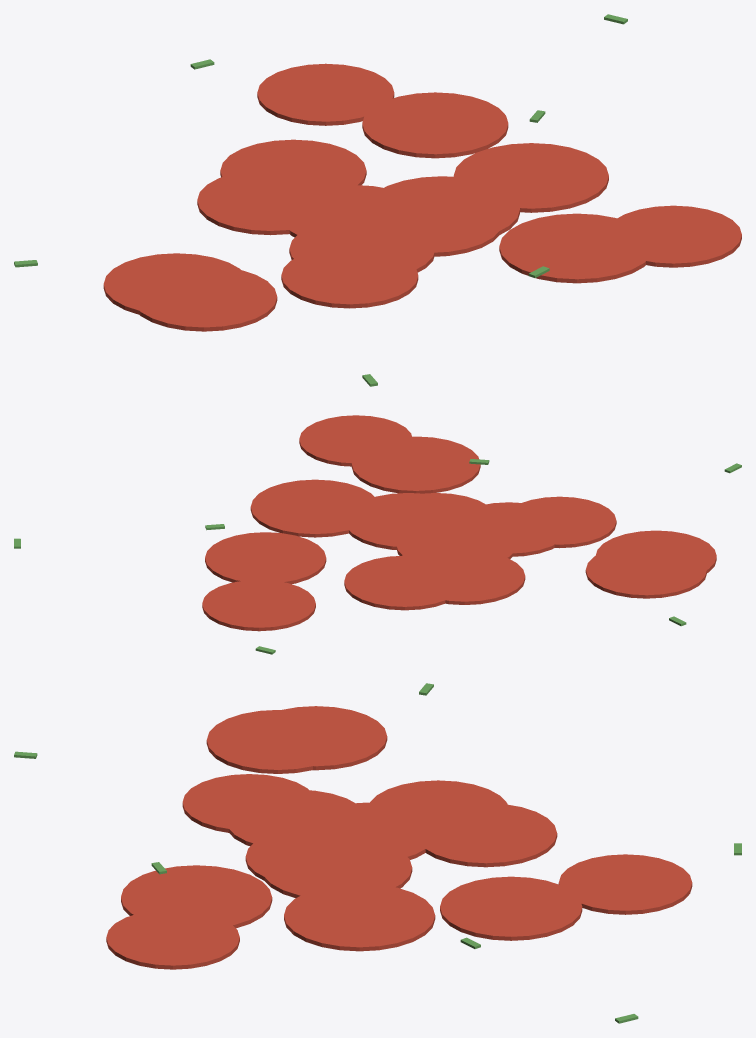
Rendered from toppings.glb.
The picture shows the model from 3 angles, top to bottom: view 1: azimuth 30°, elevation 25°; view 2: azimuth 150°, elevation 25°; view 3: azimuth 270°, elevation 25°; orthographic projection. The views are drawn at different scales.
Visible parts, largest first — view 1: Pepperoni09, Pepperoni12, Pepperoni04, Pepperoni00, Pepperoni08, Pepperoni07, Pepperoni03, Pepperoni01, Pepperoni02, Pepperoni11, Pepperoni06, Pepperoni13 (+2 smaller); view 2: Pepperoni09, Pepperoni00, Pepperoni01, Pepperoni12, Pepperoni10, Pepperoni07, Pepperoni02, Pepperoni04, Pepperoni11, Pepperoni06, Pepperoni05, Pepperoni08 (+3 smaller); view 3: Pepperoni00, Pepperoni09, Pepperoni12, Pepperoni08, Pepperoni01, Pepperoni14, Pepperoni07, Pepperoni11, Pepperoni02, Pepperoni06, Pepperoni03, Pepperoni10 (+3 smaller).
Boxes of the visible parts, x1,y1,x2,y2 form: Pepperoni09: [499, 213, 654, 283]; Pepperoni12: [362, 92, 508, 158]; Pepperoni04: [365, 176, 519, 241]; Pepperoni00: [453, 143, 608, 212]; Pepperoni08: [103, 253, 249, 314]; Pepperoni07: [257, 63, 394, 125]; Pepperoni03: [289, 220, 435, 279]; Pepperoni01: [220, 139, 366, 197]; Pepperoni02: [281, 246, 418, 308]; Pepperoni11: [605, 205, 741, 267]; Pepperoni06: [197, 172, 341, 235]; Pepperoni13: [281, 185, 403, 246]; Pepperoni09: [351, 436, 480, 493]; Pepperoni00: [250, 479, 378, 537]; Pepperoni01: [344, 555, 465, 610]; Pepperoni12: [205, 532, 326, 584]; Pepperoni10: [595, 530, 716, 581]; Pepperoni07: [202, 579, 315, 631]; Pepperoni02: [502, 496, 616, 548]; Pepperoni04: [346, 493, 471, 549]; Pepperoni11: [299, 415, 411, 466]; Pepperoni06: [406, 550, 525, 604]; Pepperoni05: [381, 505, 494, 551]; Pepperoni08: [585, 556, 706, 598]; Pepperoni00: [284, 884, 435, 951]; Pepperoni09: [121, 865, 272, 929]; Pepperoni12: [440, 876, 582, 940]; Pepperoni08: [245, 706, 387, 770]; Pepperoni01: [415, 803, 557, 867]; Pepperoni14: [245, 826, 384, 886]; Pepperoni07: [558, 854, 692, 914]; Pepperoni11: [106, 910, 239, 969]; Pepperoni02: [182, 774, 315, 832]; Pepperoni06: [367, 780, 507, 840]; Pepperoni03: [225, 789, 367, 847]; Pepperoni10: [206, 710, 348, 773].
Bounding box in the file's own units: 1.8 × 0.018 × 1.64.
